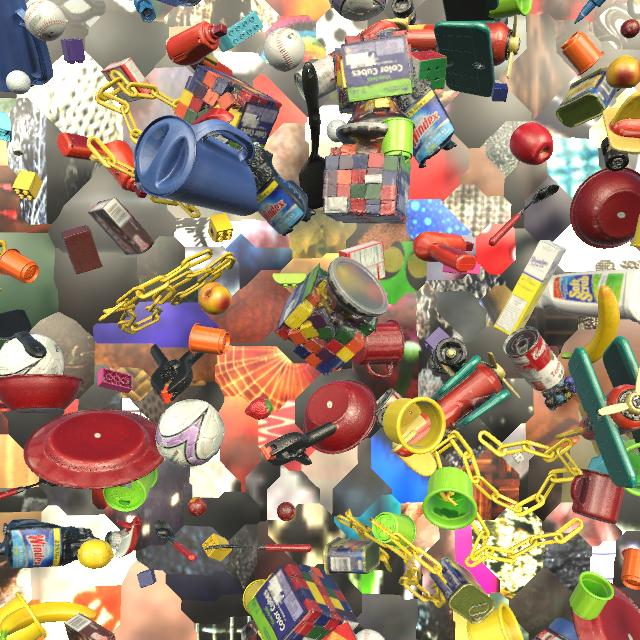ycb_003_cracker_box: (321, 621, 358, 640)
ycb_004_sugar_box: (493, 240, 567, 335)
ycb_005_tomato_soup_can: (503, 327, 565, 391), (294, 51, 337, 101), (372, 388, 411, 420)
ycb_008_pudding_box: (88, 197, 155, 255), (64, 613, 116, 640), (536, 627, 570, 640)
ycb_009_gelatin_box: (101, 57, 151, 102), (338, 240, 386, 280)
ycb_010_potted_meat_can: (429, 557, 495, 624), (556, 67, 621, 128), (323, 537, 381, 575)
ycb_011_banana: (561, 285, 620, 363), (0, 601, 97, 640)
ycb_012_strawberry: (245, 397, 273, 420)
ycb_013_apple: (510, 122, 554, 165)
ycb_014_lemon: (77, 539, 115, 569)
ycb_015_peach: (198, 282, 232, 315), (606, 55, 640, 88)
